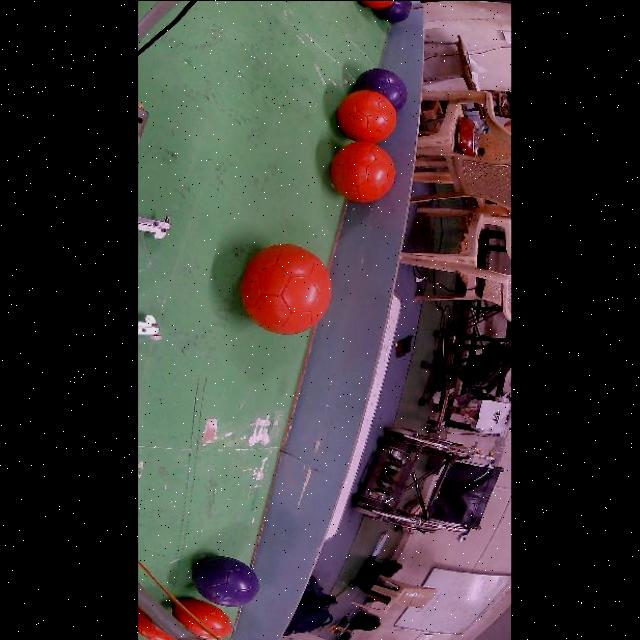P: (193, 556, 259, 606), (356, 67, 408, 110), (375, 0, 412, 22)
R: (242, 243, 332, 334), (332, 141, 395, 202), (338, 89, 397, 143), (173, 598, 233, 640), (359, 0, 395, 8)
